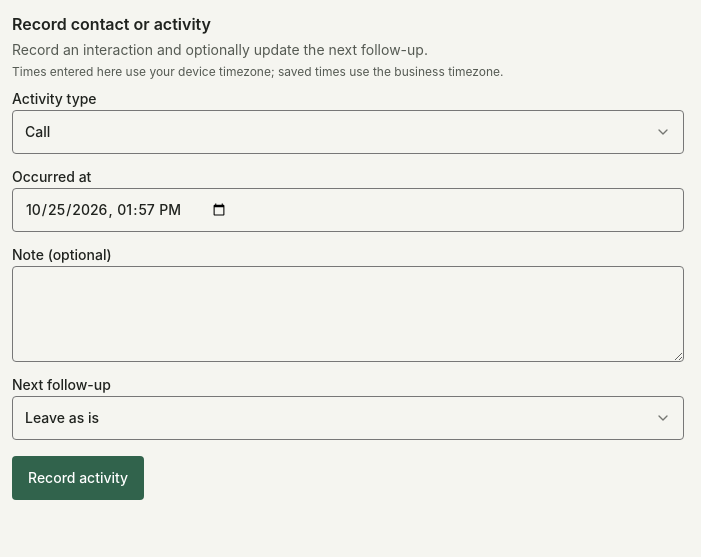
Test: contact panel › posts a contact, refreshes lead/list/dashboard data, and reports success
The width and height of the screenshot is (701, 557).
Replace the text in the field labelled "Occurred at" with "2026-10-24T10:00" at (348, 210), box [12,188,684,232]
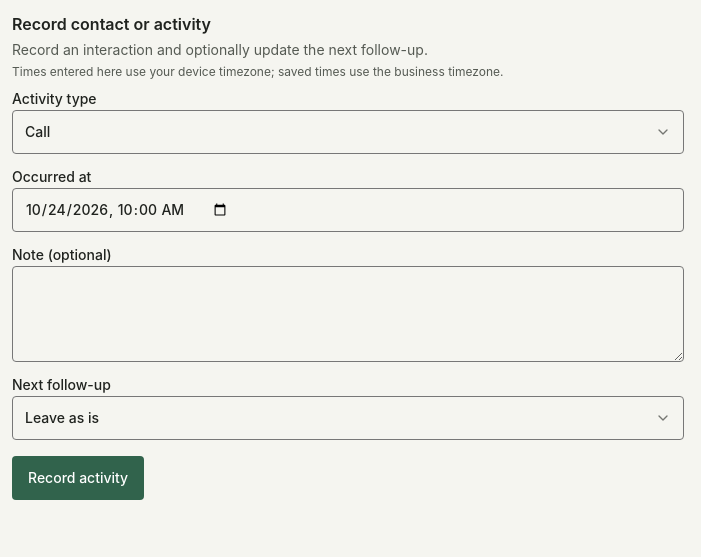
Type "Discussed goals" into the text box labelled "Note (optional)" at (348, 314), box [12,266,684,362]
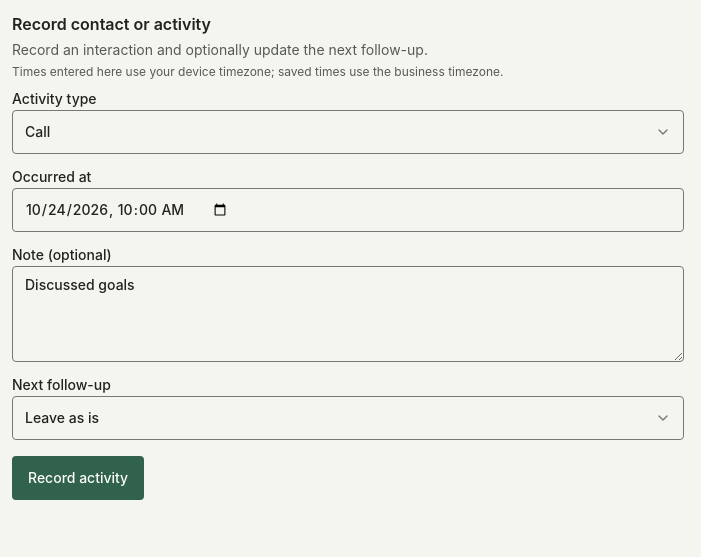
Click the button "Record activity" at (78, 478), box [12,456,144,500]
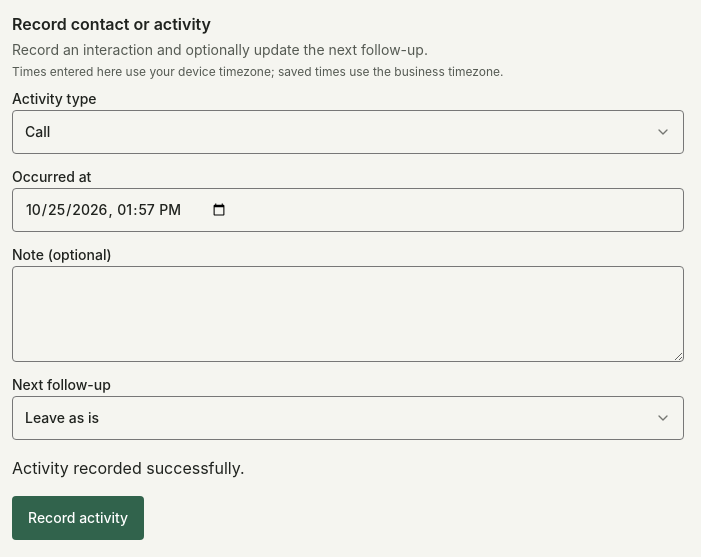
expect the text "Activity recorded successfully." is shown: met, box [12,458,245,478]
